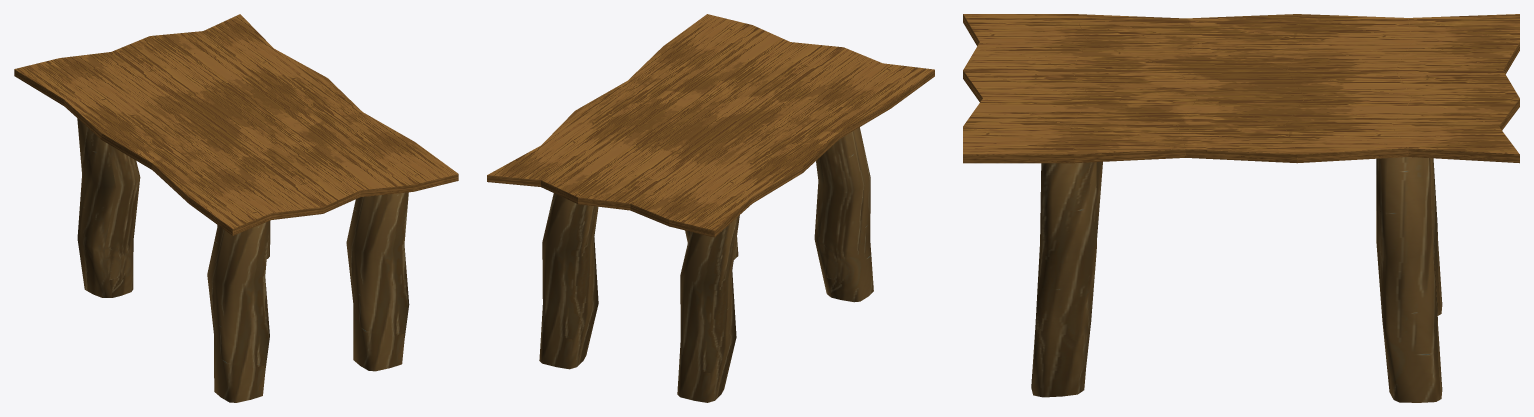
Rendered from Table.glb.
3 views of the same model, side by side, from view 1: azimuth 30°, elevation 25°; view 2: azimuth 150°, elevation 25°; view 3: azimuth 270°, elevation 25° (orthographic). The views are drawn at different scales.
Visible parts, largest first — view 1: Table; view 2: Table; view 3: Table.
Part boxes in pixels (left/top/right/bottom): Table: left=14, top=14, right=458, bottom=402; Table: left=487, top=14, right=934, bottom=402; Table: left=963, top=14, right=1519, bottom=402.
Size of what is drawn, in the model's own units: 0.7508 by 0.6467 by 1.26.
Materials: 2 (2 with a texture image).
